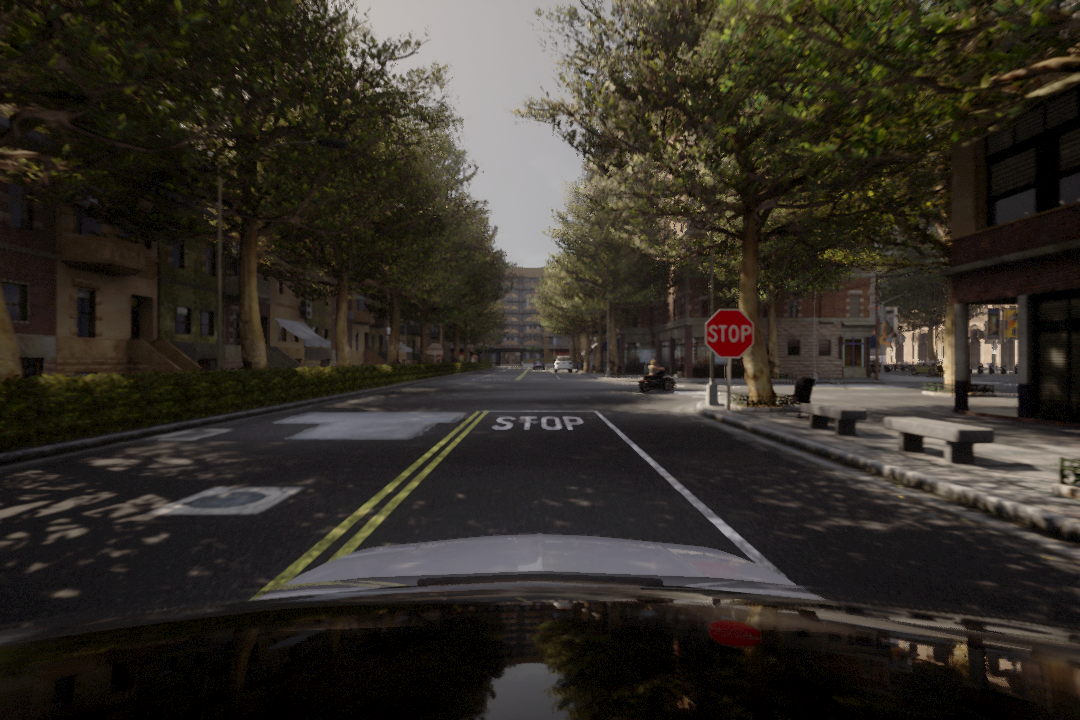TrafficSign_stop: (703, 307, 756, 362)
